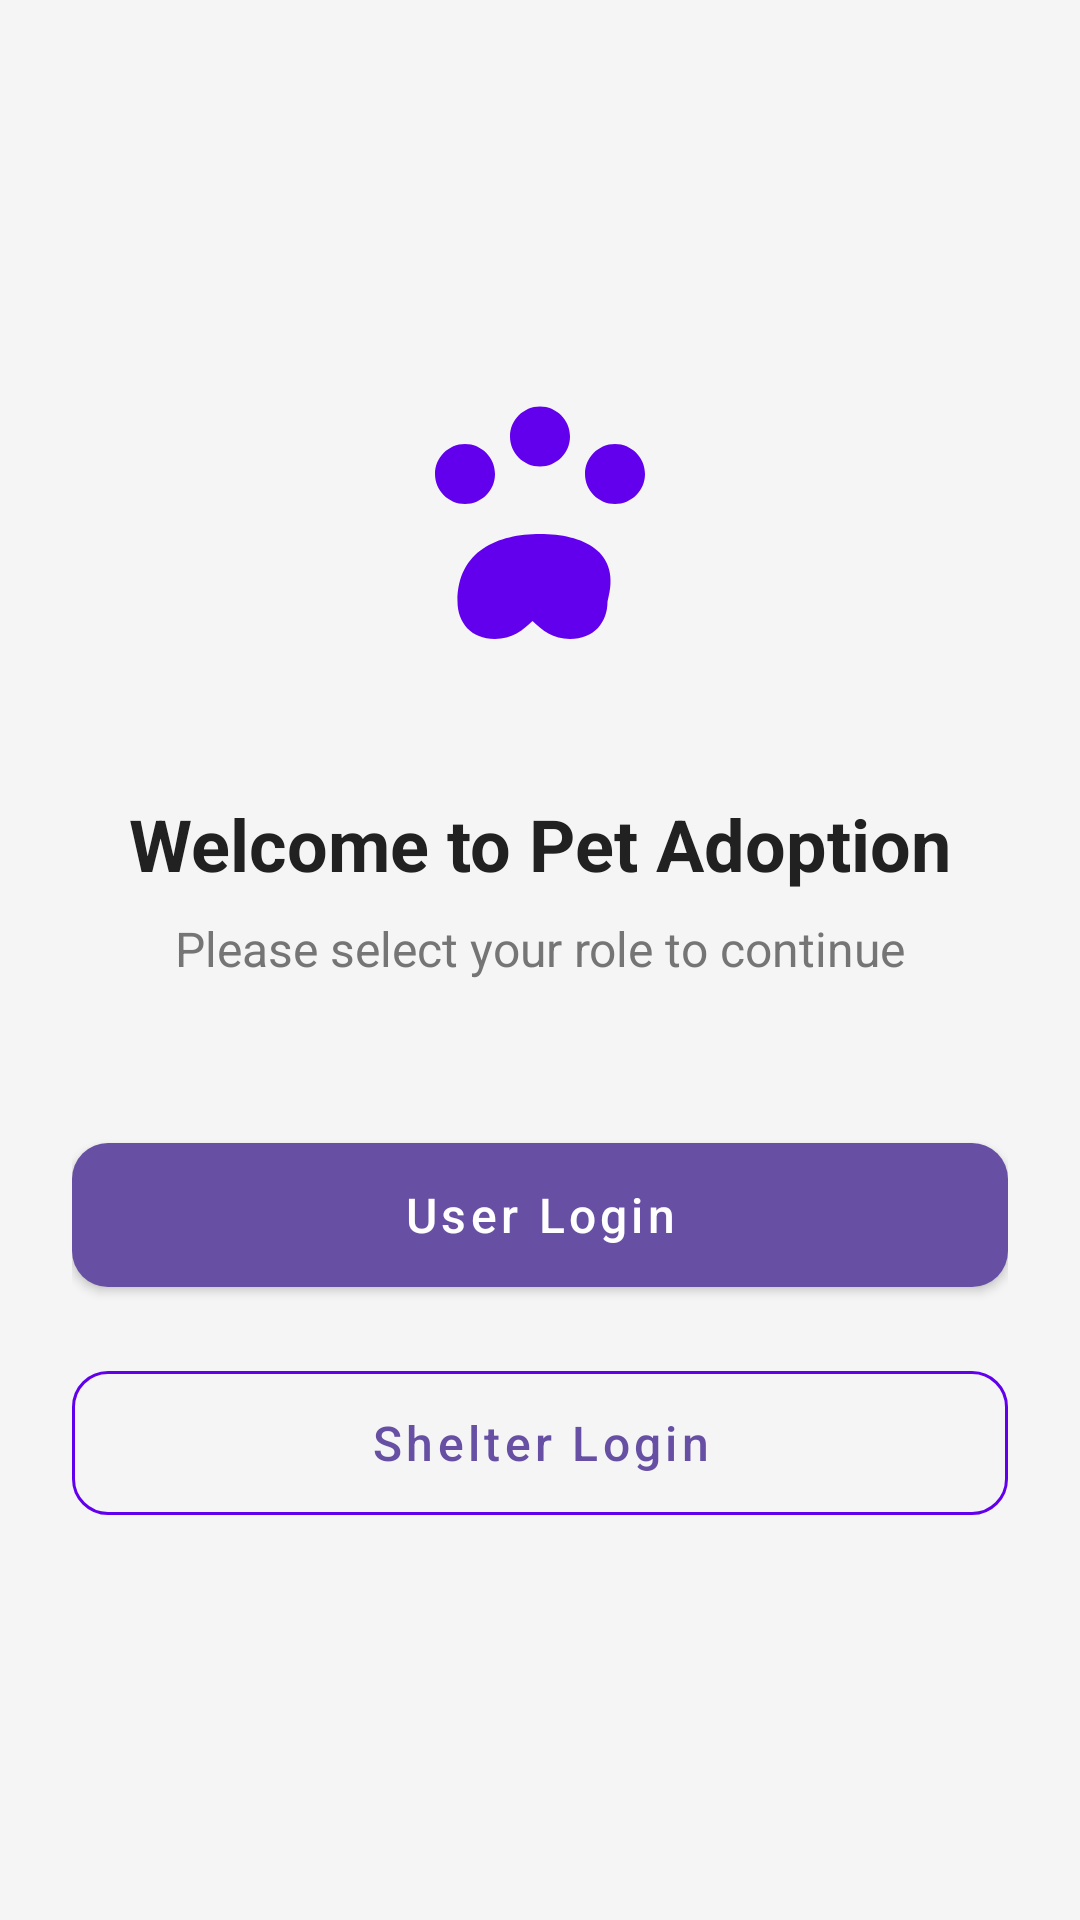

Point at icon controls on the screen. Image size 1080w x 1920h, points as (x=x, y=y).
paw: (x=540, y=522)
